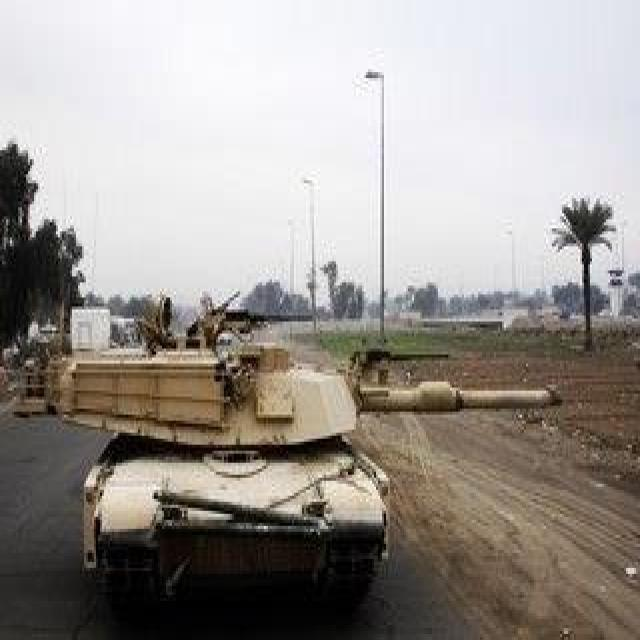MIL_MBT: (20, 294, 564, 595)
